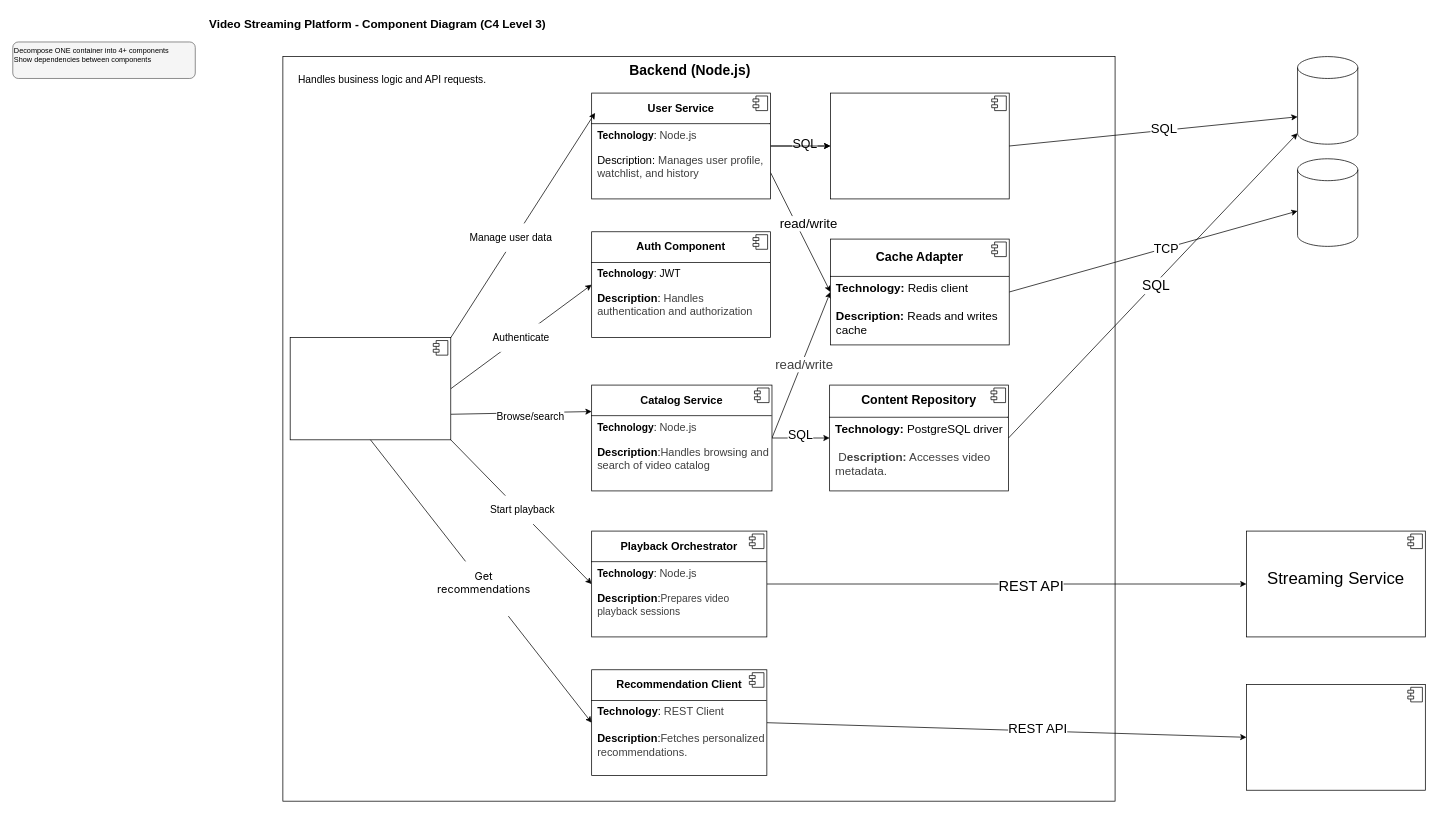
The diagram is 1438 pixels wide and 814 high, and some of its shapes have lost their labels. Here are the shapes that lost their labels. From the top down, the box of each, then its label:
(1297, 56, 1358, 144): Database
(830, 92, 1009, 199): User Repository Technology: PostgreSQL driver Description: Accesses user data
(1297, 158, 1358, 246): Cache
(289, 337, 451, 440): API Controllers Technology : Express Description : Handles REST API endpoints.
(1246, 684, 1425, 790): Recommendation Service
